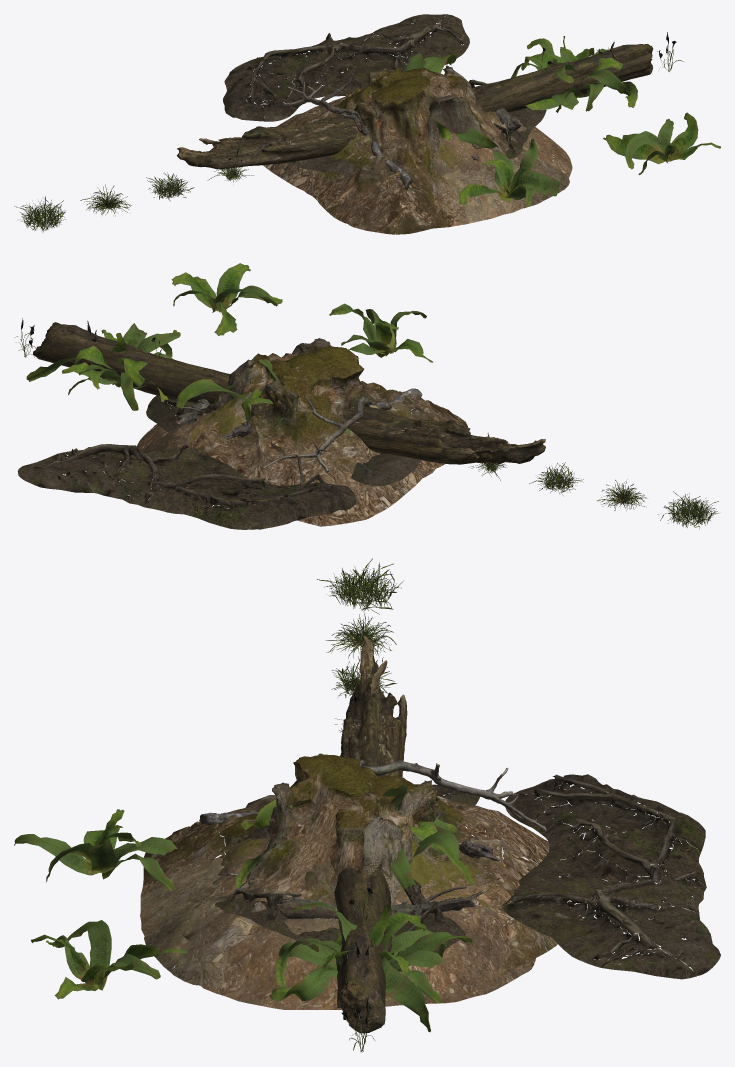
The model's file is undergrowth.glb.
The picture shows the model from 3 angles, top to bottom: view 1: azimuth 30°, elevation 25°; view 2: azimuth 150°, elevation 25°; view 3: azimuth 270°, elevation 25°; orthographic projection. The views are drawn at different scales.
Parts seen in each view (by area): view 1: tree_stump_01, pine_roots_a, dead_tree_trunk, fern_02_c, tree_stump_02, fern_02_d, fern_02_a, pine_roots_b, dry_branches_medium_01_a, fern_02_b, grass_medium_01_large_a, grass_medium_01_large_b (+1 smaller); view 2: tree_stump_01, pine_roots_a, dead_tree_trunk, fern_02_c, pine_roots_b, tree_stump_02, fern_02_d, fern_02_a, dry_branches_medium_01_a, fern_02_b, grass_medium_01_large_a, grass_medium_01_large_c (+2 smaller); view 3: tree_stump_01, pine_roots_a, tree_stump_02, dead_tree_trunk, fern_02_c, fern_02_a, pine_roots_b, fern_02_d, fern_02_b, dry_branches_medium_01_a, dry_branches_medium_01_c, grass_medium_01_large_a (+1 smaller).
Boxes of the visible parts, x1,y1,x2,y2 form: tree_stump_01: [263, 65, 569, 234]; pine_roots_a: [223, 14, 469, 121]; dead_tree_trunk: [177, 44, 653, 169]; fern_02_c: [511, 36, 637, 112]; tree_stump_02: [305, 85, 572, 207]; fern_02_d: [603, 112, 720, 174]; fern_02_a: [458, 139, 560, 206]; pine_roots_b: [286, 79, 546, 177]; dry_branches_medium_01_a: [283, 70, 412, 189]; fern_02_b: [364, 53, 498, 147]; grass_medium_01_large_a: [14, 196, 65, 232]; grass_medium_01_large_b: [80, 184, 131, 216]; tree_stump_01: [171, 338, 467, 526]; pine_roots_a: [17, 444, 356, 529]; dead_tree_trunk: [33, 322, 545, 464]; fern_02_c: [26, 323, 180, 410]; pine_roots_b: [146, 395, 421, 486]; tree_stump_02: [136, 377, 435, 480]; fern_02_d: [171, 263, 282, 335]; fern_02_a: [329, 303, 433, 362]; dry_branches_medium_01_a: [263, 388, 422, 484]; fern_02_b: [176, 359, 359, 434]; grass_medium_01_large_a: [658, 491, 718, 529]; grass_medium_01_large_c: [529, 462, 583, 495]; tree_stump_01: [140, 753, 561, 987]; pine_roots_a: [501, 774, 720, 979]; tree_stump_02: [200, 787, 535, 1009]; dead_tree_trunk: [334, 635, 407, 1033]; fern_02_c: [269, 901, 472, 1032]; fern_02_a: [14, 809, 177, 890]; pine_roots_b: [215, 784, 479, 952]; fern_02_d: [31, 920, 188, 999]; fern_02_b: [236, 785, 474, 893]; dry_branches_medium_01_a: [199, 760, 546, 830]; dry_branches_medium_01_c: [276, 886, 483, 921]; grass_medium_01_large_a: [317, 558, 403, 614].
Size of the model in its own units: 4.24 by 0.6303 by 2.65.
Materials: 8 (8 with a texture image).
